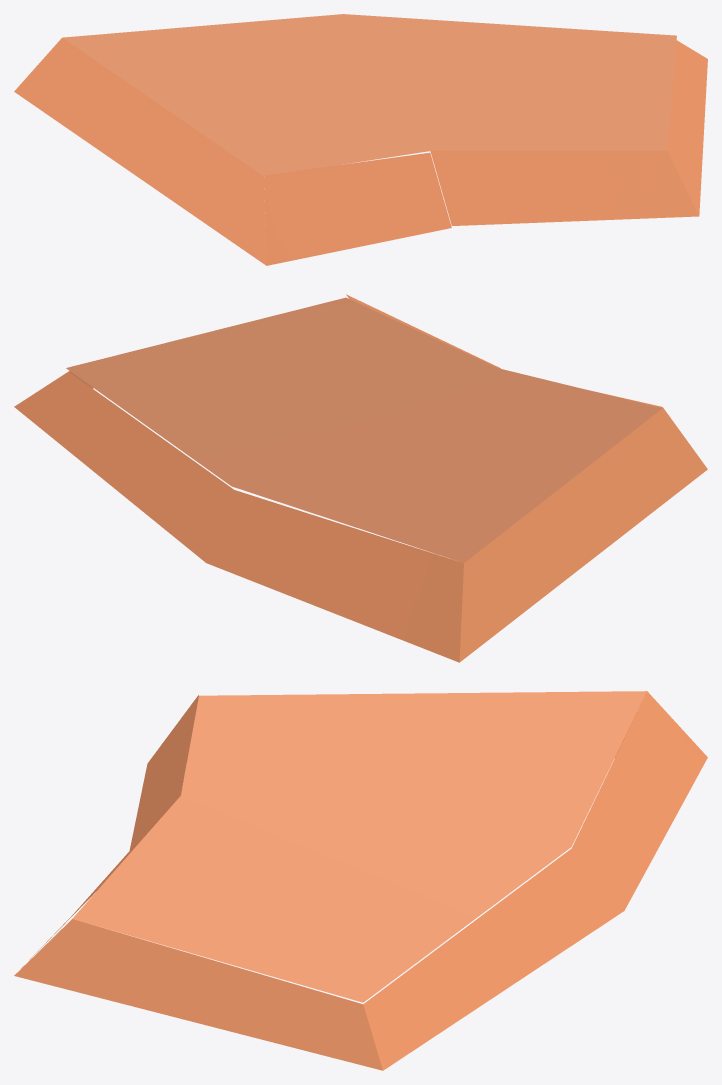
Rendered from desert_rock1.glb.
3 views of the same model, one above another, from view 1: azimuth 30°, elevation 25°; view 2: azimuth 150°, elevation 25°; view 3: azimuth 270°, elevation 25° (orthographic). The views are drawn at different scales.
Visible parts, largest first — view 1: Cube.001; view 2: Cube.001; view 3: Cube.001.
Boxes of the visible parts, left/top/right/bottom form: Cube.001: left=14, top=14, right=707, bottom=265; Cube.001: left=14, top=294, right=707, bottom=662; Cube.001: left=14, top=691, right=707, bottom=1070.
Bounding box in the file's own units: 1.19 × 0.1421 × 1.11.
1 material, 1 textured.
